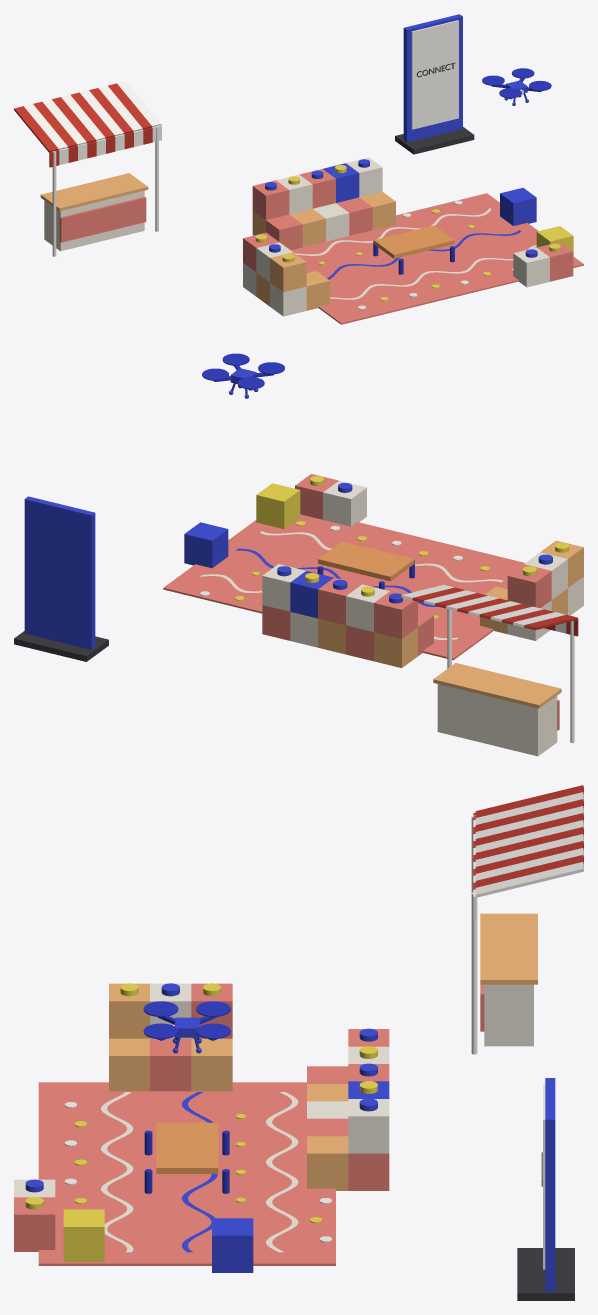
3 renders of one model, top to bottom at view 1: azimuth 30°, elevation 25°; view 2: azimuth 150°, elevation 25°; view 3: azimuth 270°, elevation 25°, orthographic. The views are drawn at different scales.
Visible parts, largest first — view 1: Rug_Base.001, Screen_Face.001, Screen_Frame.001, Cafe_Front.001, Cafe_Top.001, Cafe_Counter.001, Table_Top.001, Stool_Blue.001, SofaA_BackU0.001, SofaB_BackU0.001, Bench_1.001, Screen_Base.001 (+32 smaller); view 2: Rug_Base.001, Screen_Frame.001, Cafe_Counter.001, Cafe_Top.001, Table_Top.001, Stool_Blue.001, Stool_Yellow.001, SofaA_BackU0.001, Bench_1.001, SofaB_BackU2.001, SofaA_BackL0.001, Screen_Base.001 (+13 smaller); view 3: Rug_Base.001, Cafe_Top.001, Table_Top.001, Cafe_Counter.001, Screen_Base.001, Screen_Frame.001, Stool_Blue.001, SofaA_Seat4.001, Stool_Yellow.001, SofaB_Seat0.001, SofaB_Seat2.001, SofaB_Seat1.001 (+26 smaller).
Part boxes in pixels (x1=…): Rug_Base.001: x1=291, y1=193, x2=583, y2=324; Screen_Face.001: x1=411, y1=20, x2=458, y2=129; Screen_Frame.001: x1=403, y1=14, x2=462, y2=142; Cafe_Front.001: x1=60, y1=196, x2=146, y2=242; Cafe_Top.001: x1=40, y1=173, x2=148, y2=211; Cafe_Counter.001: x1=44, y1=190, x2=144, y2=251; Table_Top.001: x1=373, y1=225, x2=454, y2=258; Stool_Blue.001: x1=500, y1=187, x2=536, y2=225; SofaA_BackU0.001: x1=252, y1=180, x2=289, y2=219; SofaB_BackU0.001: x1=270, y1=252, x2=306, y2=291; Bench_1.001: x1=513, y1=247, x2=549, y2=287; Screen_Base.001: x1=395, y1=127, x2=474, y2=154; Rug_Base.001: x1=163, y1=514, x2=524, y2=660; Screen_Frame.001: x1=24, y1=496, x2=95, y2=649; Cafe_Counter.001: x1=437, y1=684, x2=557, y2=756; Cafe_Top.001: x1=433, y1=663, x2=561, y2=708; Table_Top.001: x1=318, y1=541, x2=414, y2=581; Stool_Blue.001: x1=184, y1=522, x2=228, y2=567; Stool_Yellow.001: x1=256, y1=483, x2=300, y2=528; SofaA_BackU0.001: x1=374, y1=591, x2=417, y2=638; Bench_1.001: x1=323, y1=480, x2=366, y2=526; SofaB_BackU2.001: x1=507, y1=564, x2=551, y2=608; SofaA_BackL0.001: x1=374, y1=627, x2=417, y2=667; Screen_Base.001: x1=14, y1=631, x2=108, y2=661; Rug_Base.001: x1=38, y1=1082, x2=335, y2=1265; Cafe_Top.001: x1=480, y1=913, x2=537, y2=984; Table_Top.001: x1=156, y1=1122, x2=218, y2=1173; Cafe_Counter.001: x1=484, y1=984, x2=533, y2=1046; Screen_Base.001: x1=517, y1=1248, x2=574, y2=1300; Screen_Frame.001: x1=545, y1=1078, x2=555, y2=1291; Stool_Blue.001: x1=212, y1=1218, x2=253, y2=1272; SofaA_Seat4.001: x1=307, y1=1136, x2=348, y2=1190; Stool_Yellow.001: x1=63, y1=1209, x2=104, y2=1261; SofaB_Seat0.001: x1=109, y1=1038, x2=149, y2=1091; SofaB_Seat2.001: x1=191, y1=1038, x2=232, y2=1091; SofaB_Seat1.001: x1=150, y1=1038, x2=191, y2=1091.
Size of the model in its own units: 9.4 by 3.11 by 6.91.
